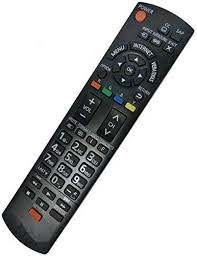remote control: (0, 0, 197, 256)
